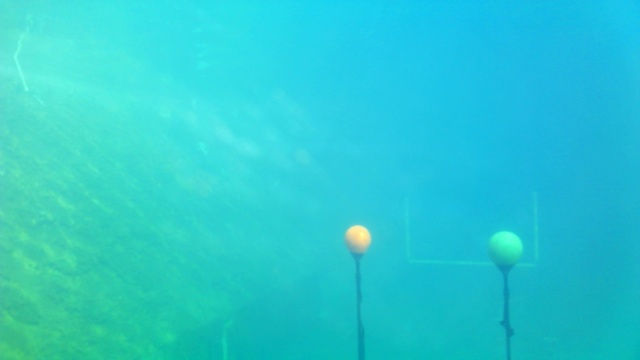buoy_green: (486, 228, 523, 282)
buoy_red: (340, 225, 371, 255)
